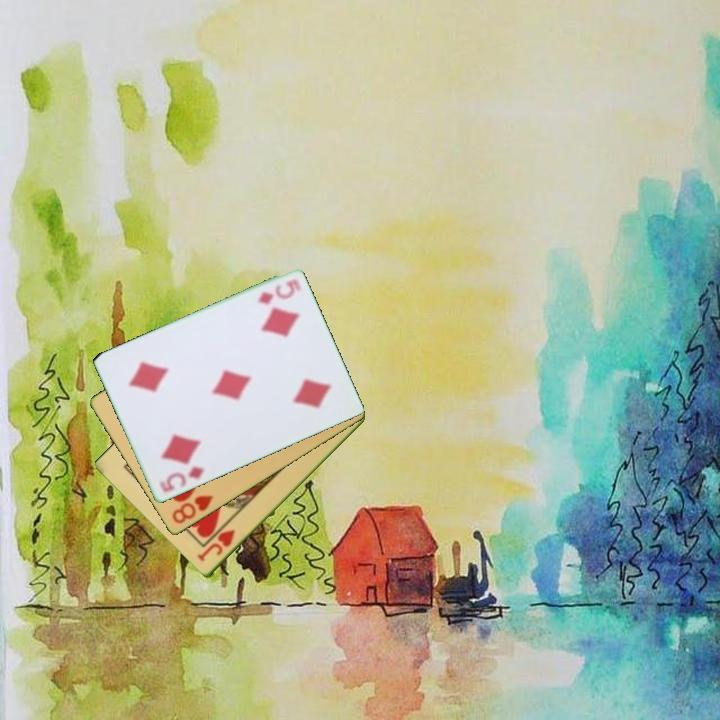5d: (155, 463, 207, 495), (254, 276, 305, 308)
8h: (168, 492, 216, 527)
Jh: (194, 526, 238, 565)
